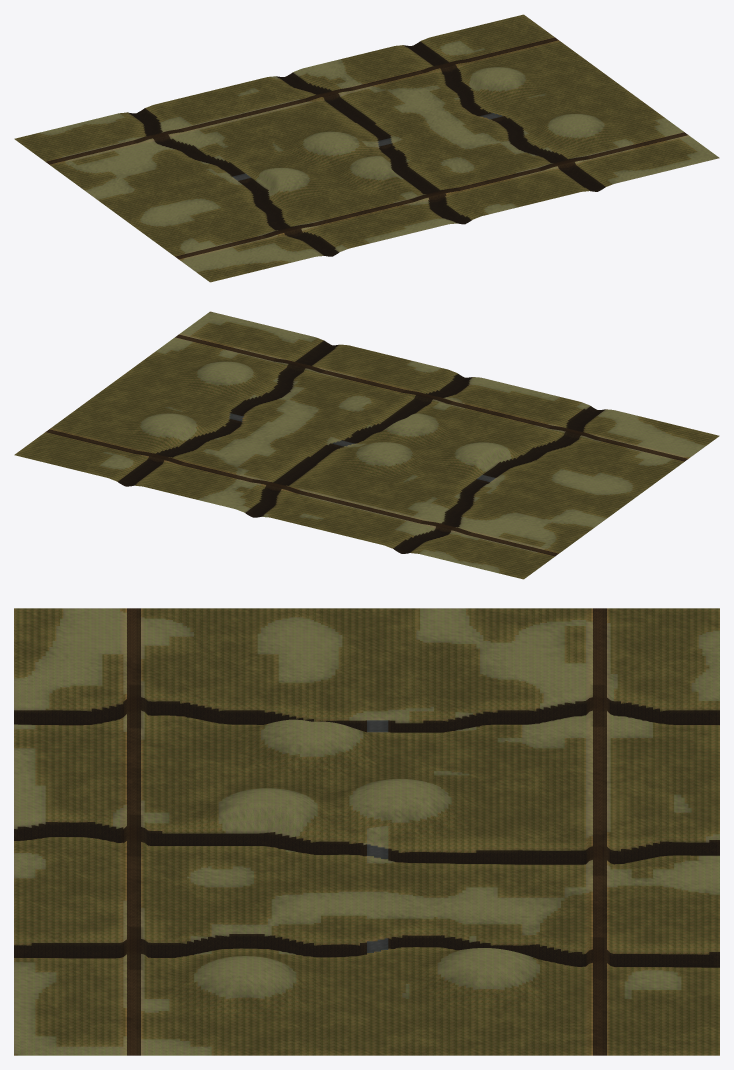
Rendered from terrain.glb.
3 renders of one model, top to bottom at view 1: azimuth 30°, elevation 25°; view 2: azimuth 150°, elevation 25°; view 3: azimuth 270°, elevation 25°, orthographic. The views are drawn at different scales.
Parts seen in each view (by area): view 1: Continuous wide terrain; view 2: Continuous wide terrain; view 3: Continuous wide terrain.
Boxes of the visible parts, left/top/right/bottom form: Continuous wide terrain: left=14, top=14, right=719, bottom=282; Continuous wide terrain: left=14, top=311, right=719, bottom=579; Continuous wide terrain: left=14, top=608, right=719, bottom=1055.
Bounding box in the file's own units: 300 × 8.08 × 200.
4 materials, 4 textured.
